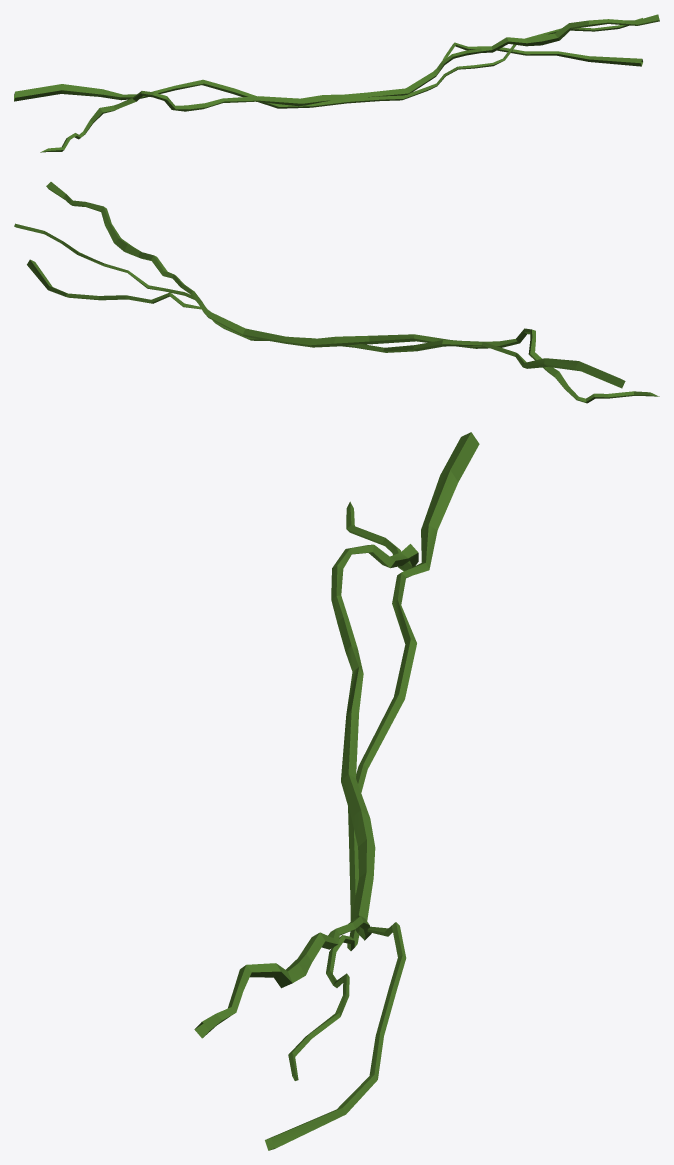
The model's file is ZLPC_Plant_Vine_B_3.FBX.
The picture shows the model from 3 angles, top to bottom: view 1: azimuth 30°, elevation 25°; view 2: azimuth 150°, elevation 25°; view 3: azimuth 270°, elevation 25°; orthographic projection. The views are drawn at different scales.
Visible parts, largest first — view 1: ZLPC_Plant_Vine_B_3; view 2: ZLPC_Plant_Vine_B_3; view 3: ZLPC_Plant_Vine_B_3.
Boxes of the visible parts, x1,y1,x2,y2 form: ZLPC_Plant_Vine_B_3: [14, 14, 659, 152]; ZLPC_Plant_Vine_B_3: [14, 182, 659, 403]; ZLPC_Plant_Vine_B_3: [194, 432, 479, 1150].
Bounding box in the file's own units: 1143 × 148 × 239.
